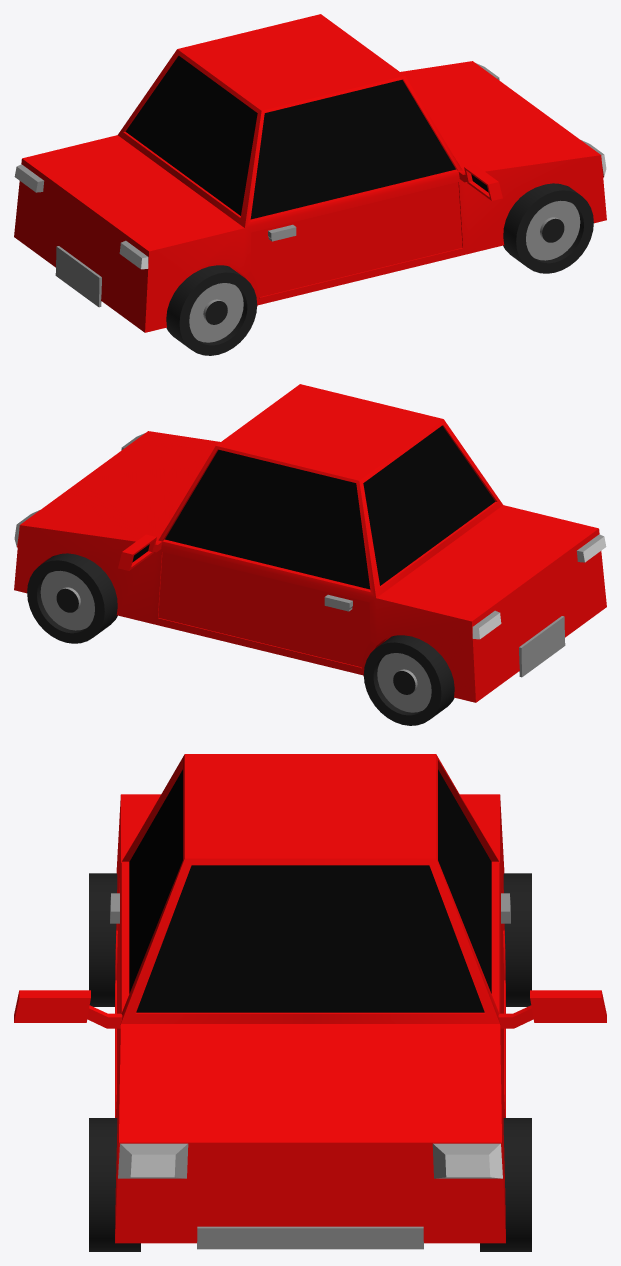
File: carsimplecubic1stylized.fbx
3 renders of one model, top to bottom at view 1: azimuth 30°, elevation 25°; view 2: azimuth 150°, elevation 25°; view 3: azimuth 270°, elevation 25°, orthographic. The views are drawn at different scales.
Parts seen in each view (by area): view 1: carsimplecubic1stylized; view 2: carsimplecubic1stylized; view 3: carsimplecubic1stylized.
Boxes of the visible parts, x1,y1,x2,y2 form: carsimplecubic1stylized: [14, 14, 606, 355]; carsimplecubic1stylized: [14, 384, 606, 725]; carsimplecubic1stylized: [14, 754, 606, 1251].
Bounding box in the file's own units: 587 × 242 × 431.
